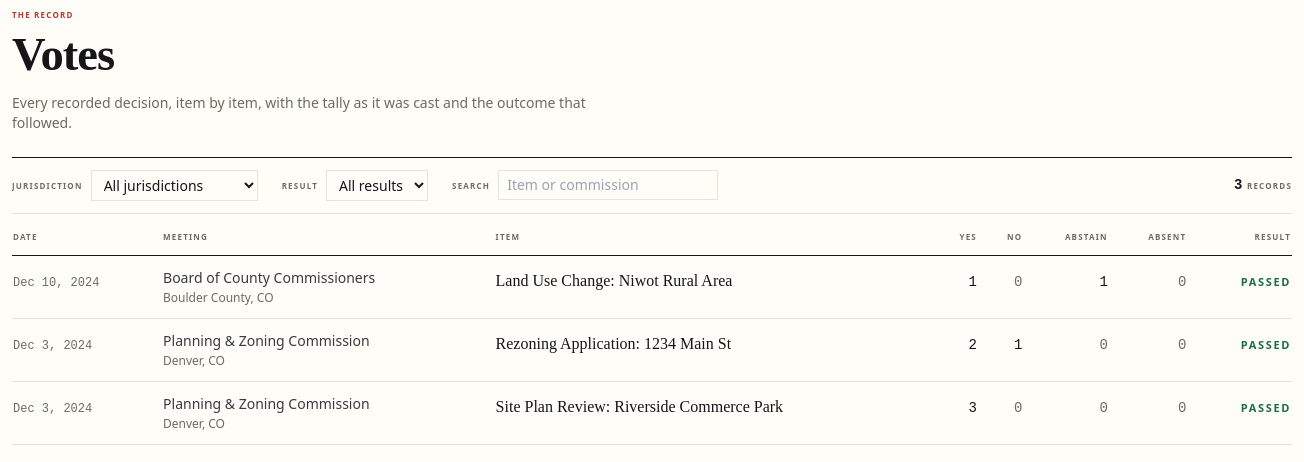
Test: VotesPage › filters by result
This screenshot has width=1304, height=462.
Select "Failed" in the dropdown labelled "Result". click: coordinates (377, 185)
box: [326,170,428,201]
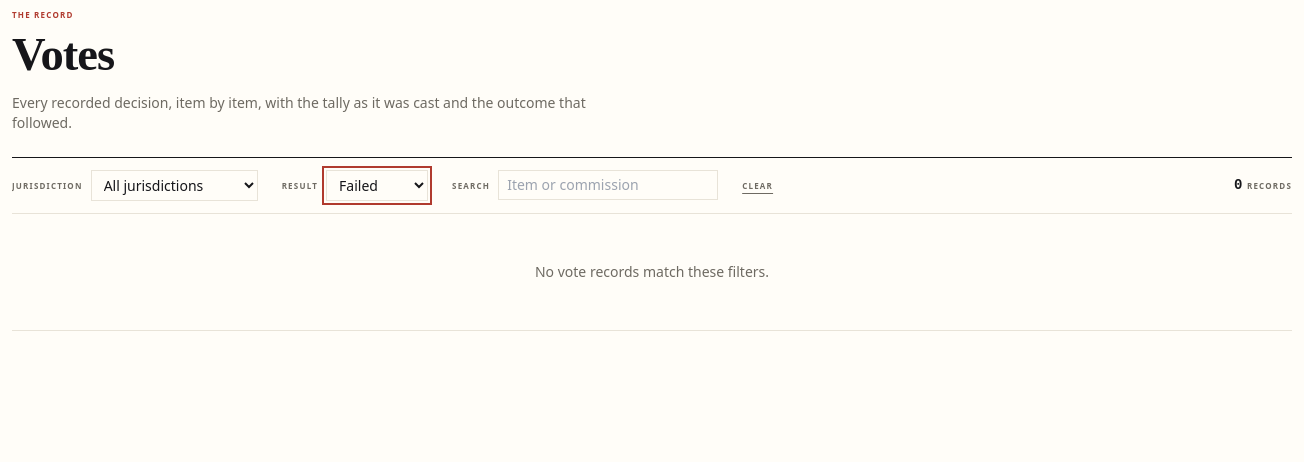
expect the text "No vote records match these filters." is shown: met, box [12,214,1292,331]
expect the button "Rezoning Application: 1234 Main St" is gone: met
